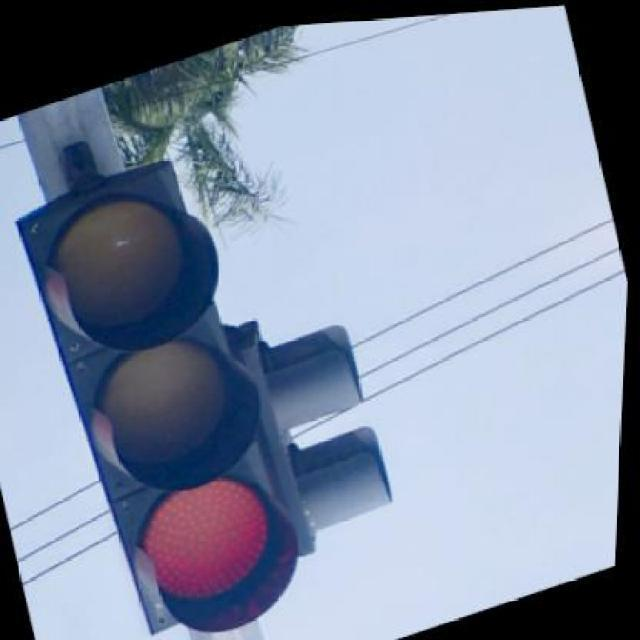red_light: (16, 159, 389, 637)
